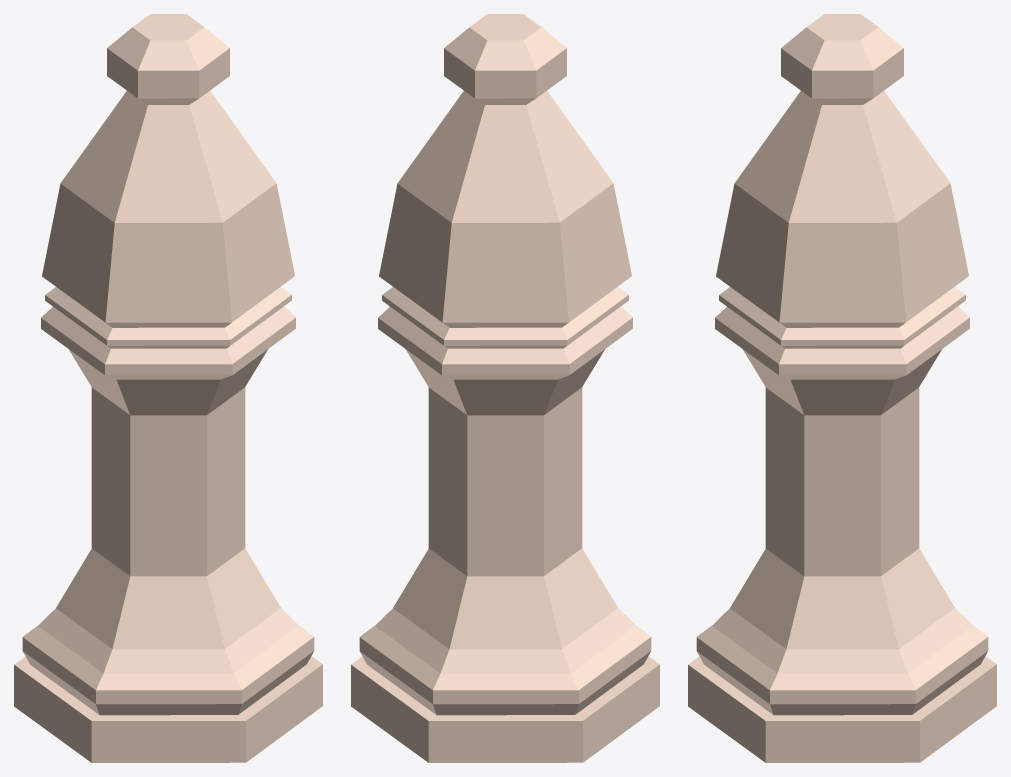
The model's file is chessPieces_Bishop_White.fbx.
3 renders of one model, left to right at view 1: azimuth 30°, elevation 25°; view 2: azimuth 150°, elevation 25°; view 3: azimuth 270°, elevation 25°, orthographic.
Visible parts, largest first — view 1: Chess_Bishop_White; view 2: Chess_Bishop_White; view 3: Chess_Bishop_White.
Part boxes in pixels (x1,y1,x2,y2): Chess_Bishop_White: (14, 14, 322, 762); Chess_Bishop_White: (351, 14, 659, 762); Chess_Bishop_White: (688, 14, 996, 762).
Bounding box in the file's own units: 231 × 648 × 267.
